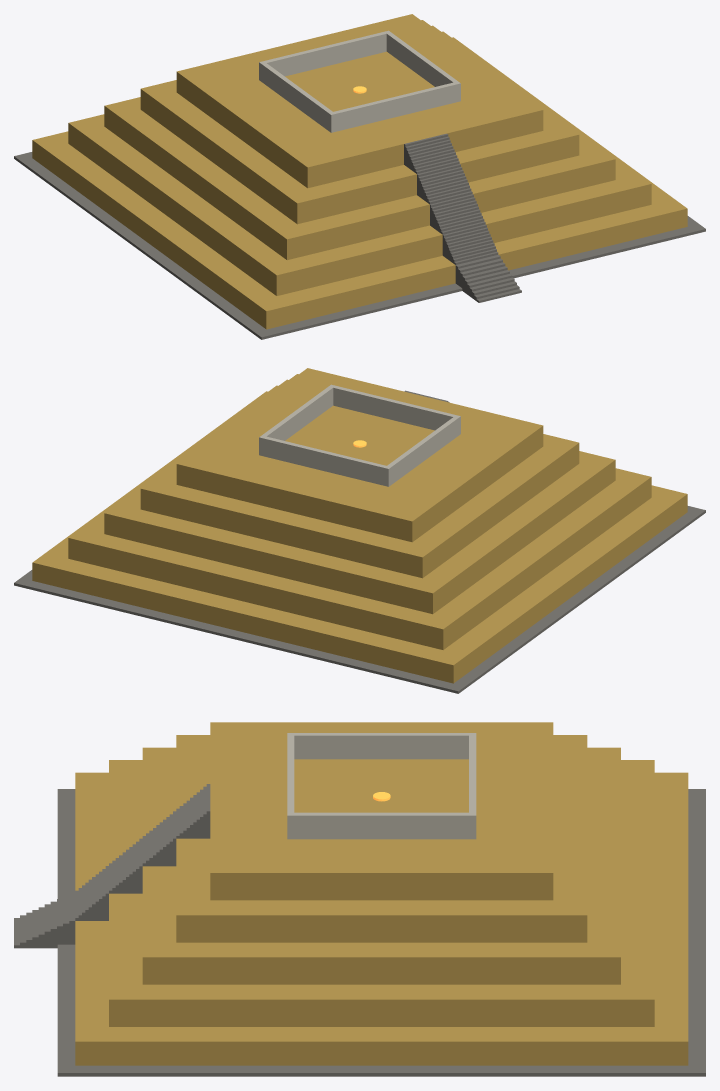
File: caral_pyramid_huanca_lod0.glb
3 renders of one model, top to bottom at view 1: azimuth 30°, elevation 25°; view 2: azimuth 150°, elevation 25°; view 3: azimuth 270°, elevation 25°, orthographic. The views are drawn at different scales.
Visible parts, largest first — view 1: GEO-Caral_PyramidHuanca_LOD0_Plaster_Yellow, GEO-Caral_PyramidHuanca_LOD0_Stone_Granodiorite, GEO-Caral_PyramidHuanca_LOD0_Plaster_White; view 2: GEO-Caral_PyramidHuanca_LOD0_Plaster_Yellow, GEO-Caral_PyramidHuanca_LOD0_Plaster_White, GEO-Caral_PyramidHuanca_LOD0_Stone_Granodiorite; view 3: GEO-Caral_PyramidHuanca_LOD0_Plaster_Yellow, GEO-Caral_PyramidHuanca_LOD0_Stone_Granodiorite, GEO-Caral_PyramidHuanca_LOD0_Plaster_White.
Part boxes in pixels (x1,y1,x2,y2): GEO-Caral_PyramidHuanca_LOD0_Plaster_Yellow: [32, 14, 687, 329]; GEO-Caral_PyramidHuanca_LOD0_Stone_Granodiorite: [14, 133, 705, 339]; GEO-Caral_PyramidHuanca_LOD0_Plaster_White: [259, 30, 460, 132]; GEO-Caral_PyramidHuanca_LOD0_Plaster_Yellow: [32, 368, 687, 683]; GEO-Caral_PyramidHuanca_LOD0_Plaster_White: [259, 384, 460, 486]; GEO-Caral_PyramidHuanca_LOD0_Stone_Granodiorite: [14, 390, 705, 693]; GEO-Caral_PyramidHuanca_LOD0_Plaster_Yellow: [75, 722, 688, 1065]; GEO-Caral_PyramidHuanca_LOD0_Stone_Granodiorite: [14, 784, 705, 1076]; GEO-Caral_PyramidHuanca_LOD0_Plaster_White: [287, 733, 476, 839].
Size of the model in its own units: 4.56 by 1.2 by 4.7.
